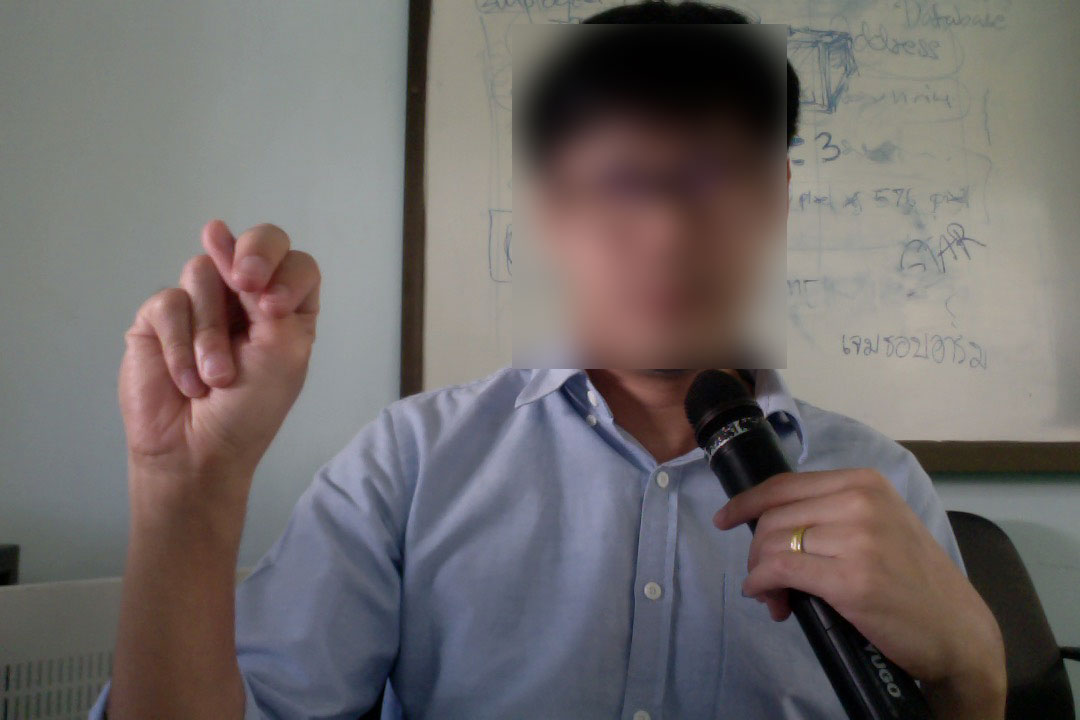nor: (114, 210, 329, 498)
